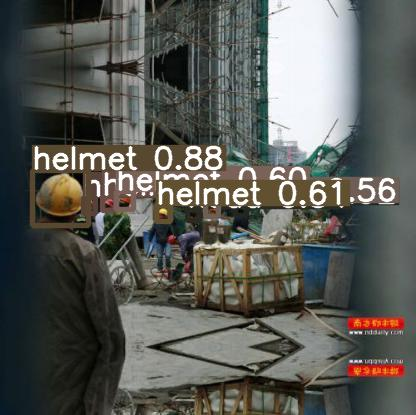head: (187, 208, 199, 220), (235, 204, 246, 215)
helmet: (32, 170, 88, 225), (116, 191, 133, 209), (156, 205, 170, 221), (102, 196, 116, 210), (83, 197, 95, 213), (205, 202, 218, 216)
